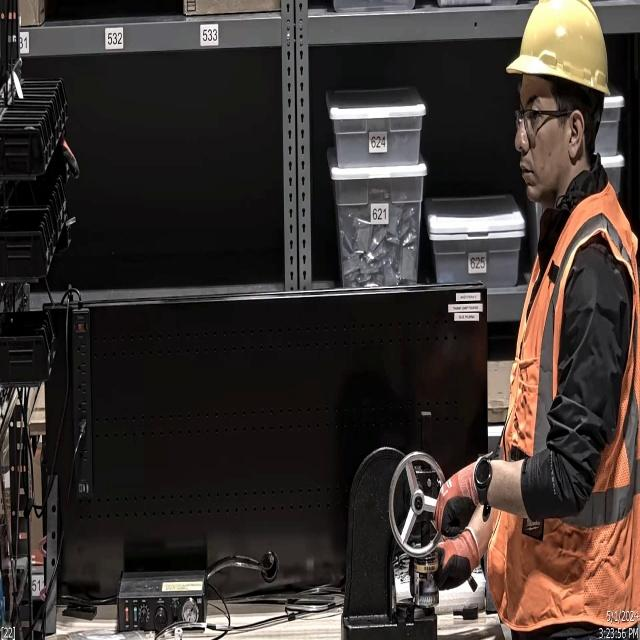gloves: (433, 450, 488, 546)
